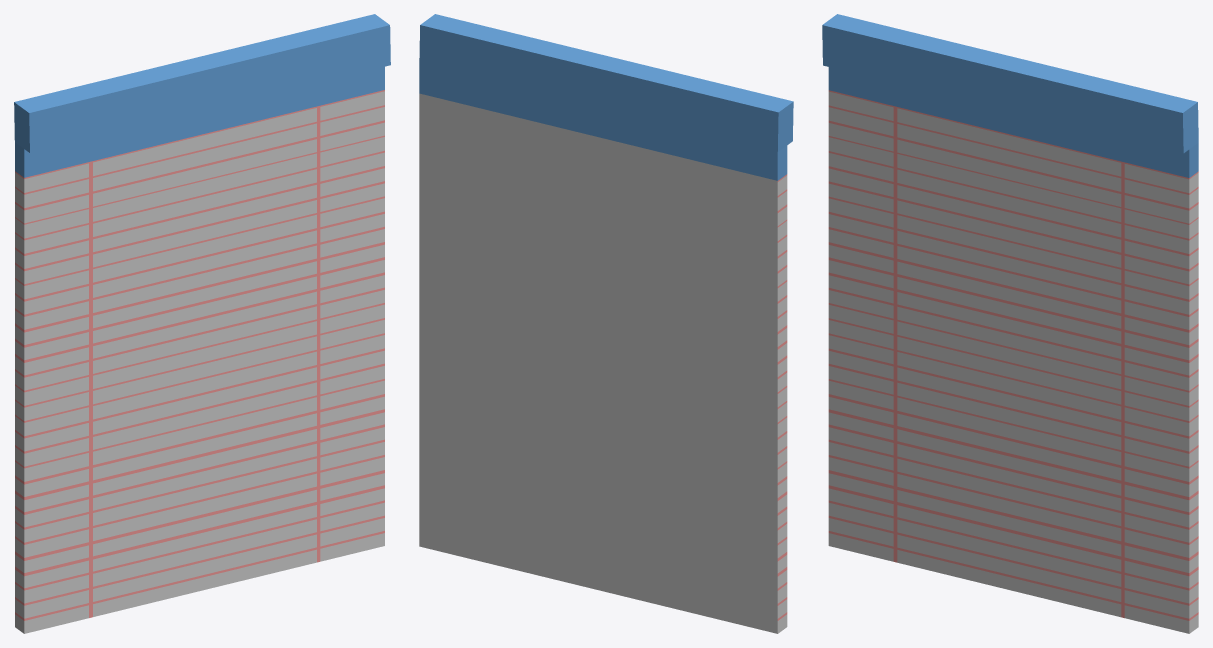
File: Legal_Note.fbx
3 views of the same model, side by side, from view 1: azimuth 30°, elevation 25°; view 2: azimuth 150°, elevation 25°; view 3: azimuth 330°, elevation 25° (orthographic).
Visible parts, largest first — view 1: Legal pad; view 2: Legal pad; view 3: Legal pad.
Part boxes in pixels (x1,y1,x2,y2): Legal pad: (14, 14, 390, 633); Legal pad: (419, 14, 793, 633); Legal pad: (822, 14, 1198, 633).
Size of the model in its own units: 0.3251 by 0.4512 by 0.0236.
